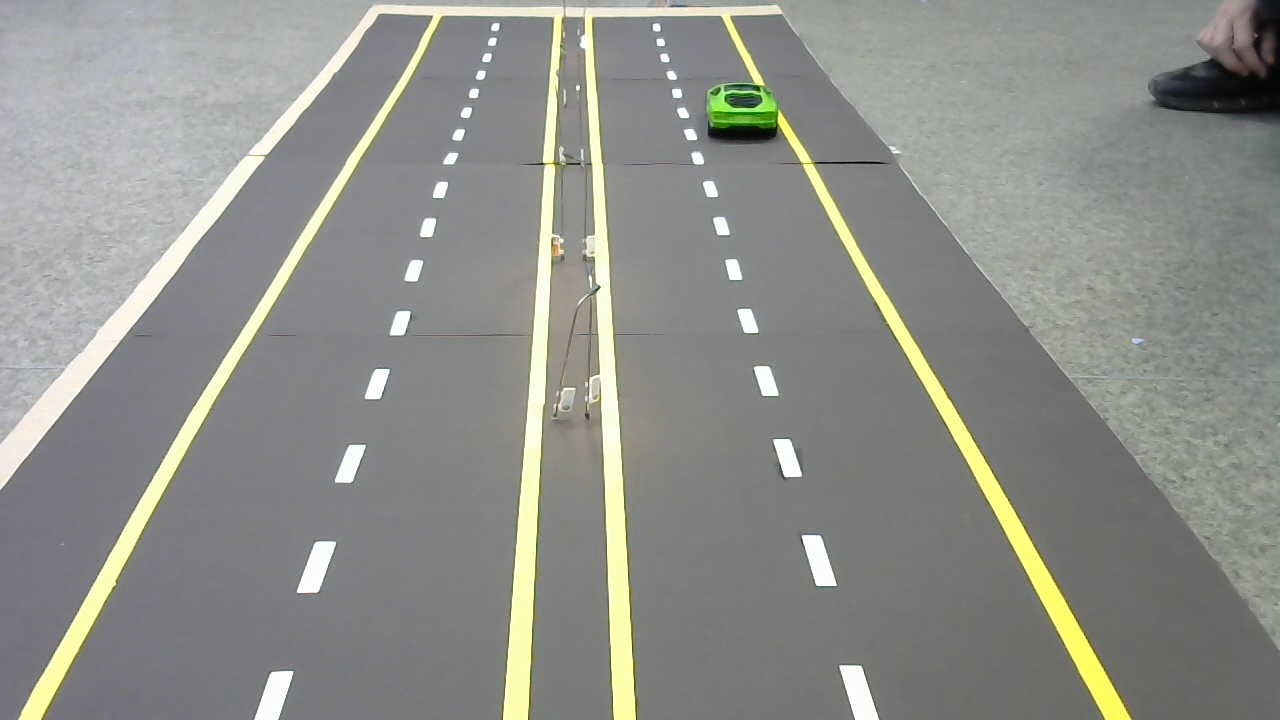back_car: (700, 80, 784, 139)
